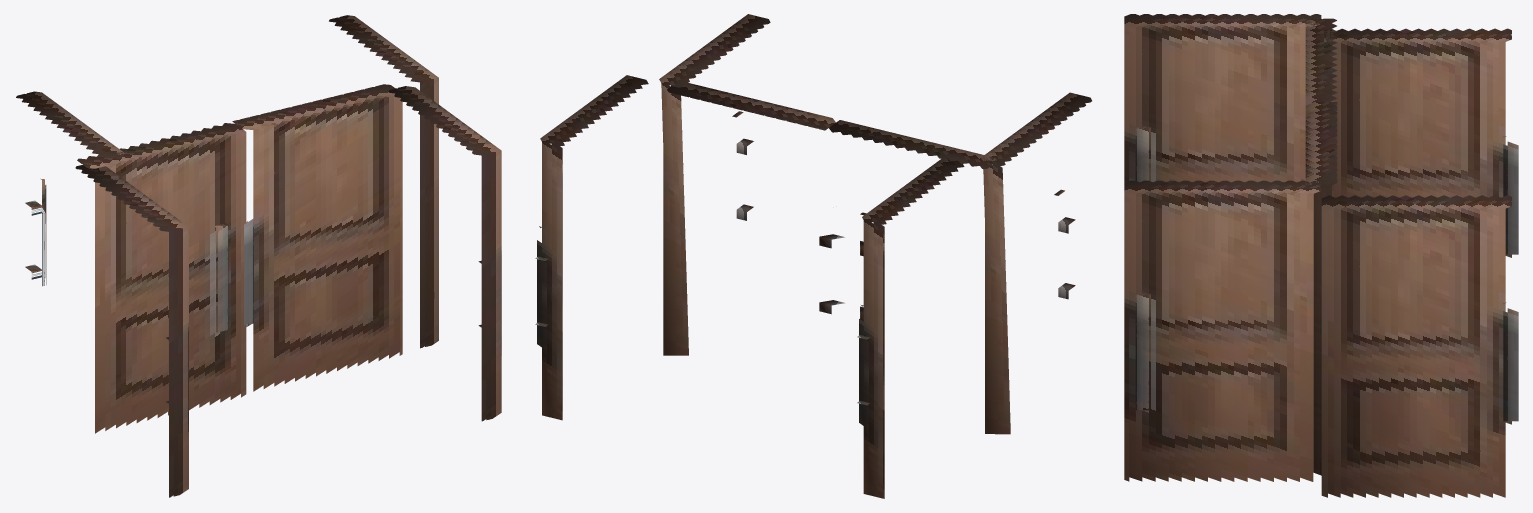
File: WoodEntrance.glb
The picture shows the model from 3 angles, left to right: view 1: azimuth 30°, elevation 25°; view 2: azimuth 150°, elevation 25°; view 3: azimuth 270°, elevation 25°; orthographic projection. The views are drawn at different scales.
Parts seen in each view (by area): view 1: right_1 (×2), left_1 (×2), right, left; view 2: right_1 (×2), left_1 (×2), right, left; view 3: right_1 (×2), right, left_1 (×2), left.
Boxes of the visible parts, left/top/right/bottom form: right_1 (×2): left=232, top=15, right=438, bottom=391; left_1 (×2): left=16, top=91, right=246, bottom=433; right: left=388, top=86, right=501, bottom=421; left: left=75, top=165, right=188, bottom=497; right_1 (×2): left=535, top=75, right=844, bottom=420; left_1 (×2): left=829, top=120, right=997, bottom=498; right: left=659, top=14, right=770, bottom=355; left: left=981, top=92, right=1091, bottom=434; right_1 (×2): left=1305, top=102, right=1518, bottom=497; right: left=1124, top=180, right=1321, bottom=481; left_1 (×2): left=1301, top=18, right=1518, bottom=257; left: left=1124, top=14, right=1321, bottom=182.
Bounding box in the file's own units: 2.36 × 1.62 × 2.
Materials: 1 (1 with a texture image).
